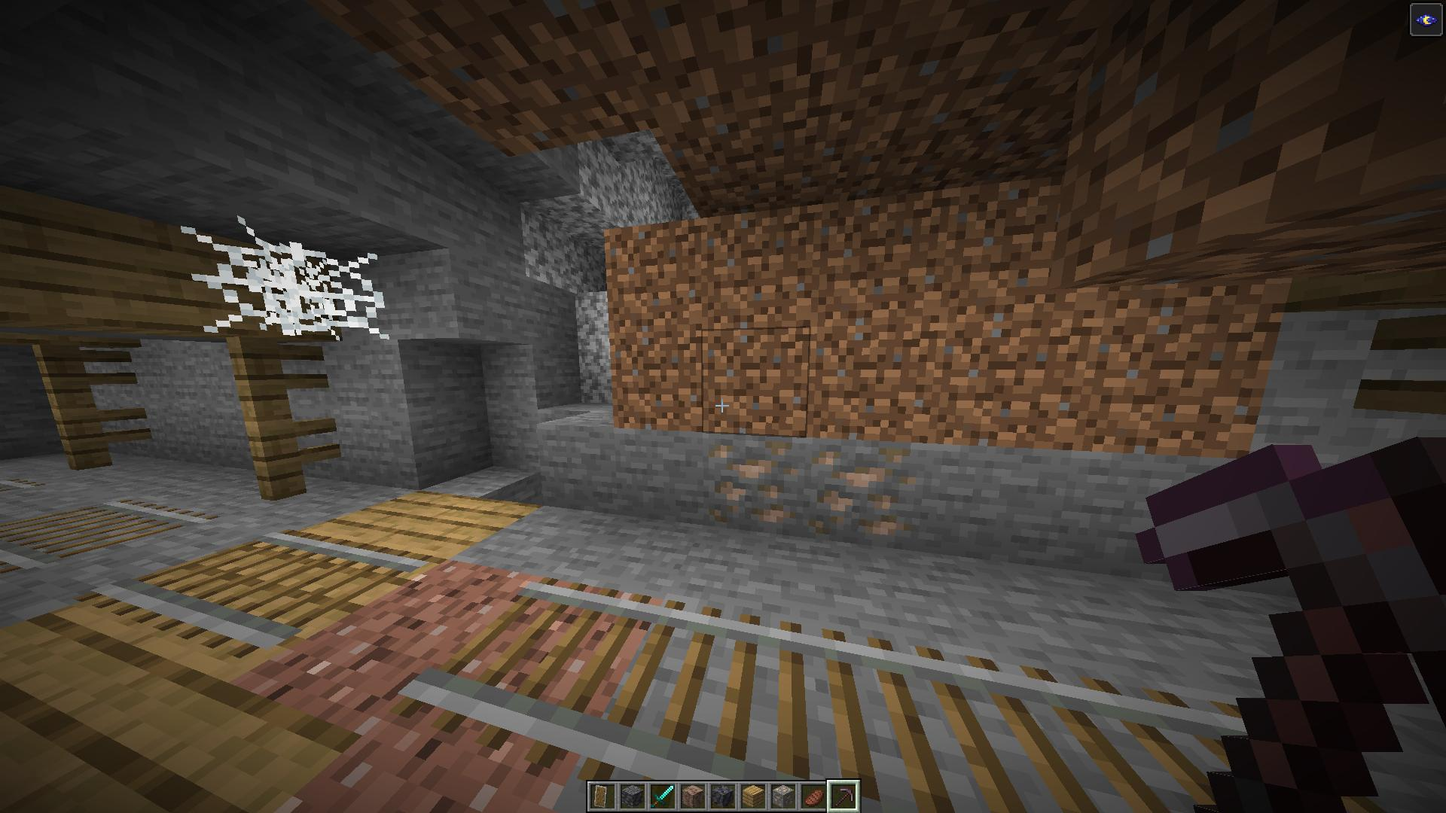iron ore: (802, 441, 911, 544), (702, 433, 802, 537)
